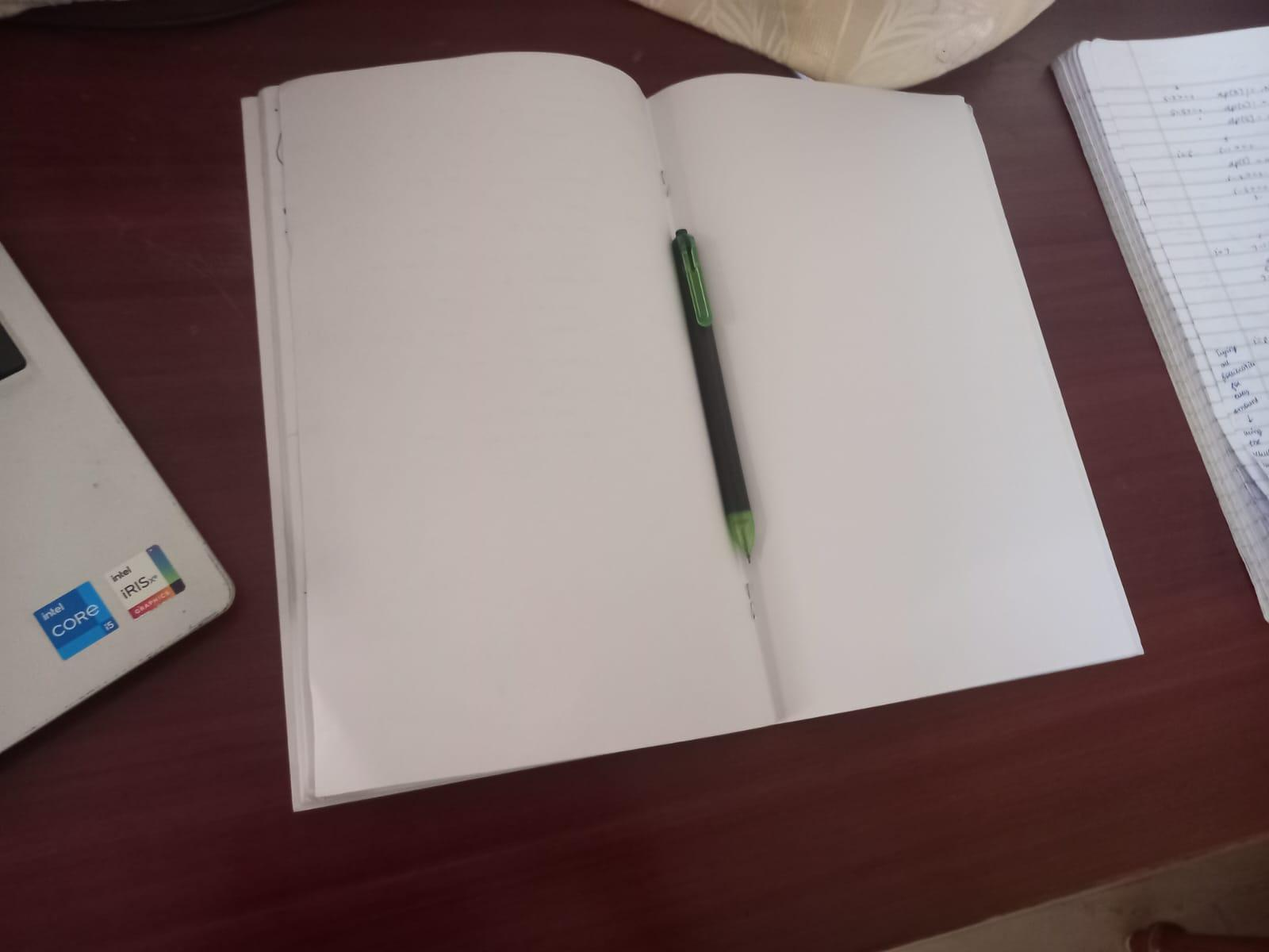notebooks: (228, 94, 1112, 714)
pen: (658, 217, 771, 565)
